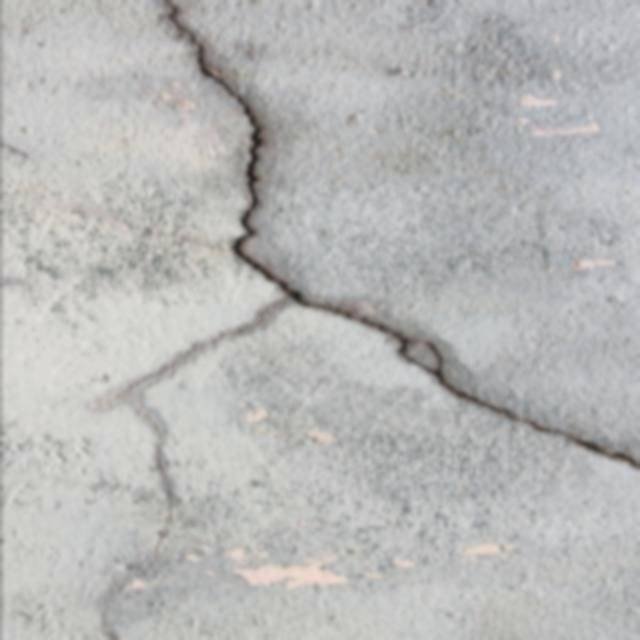SurfaceCrack: (3, 0, 639, 503)
